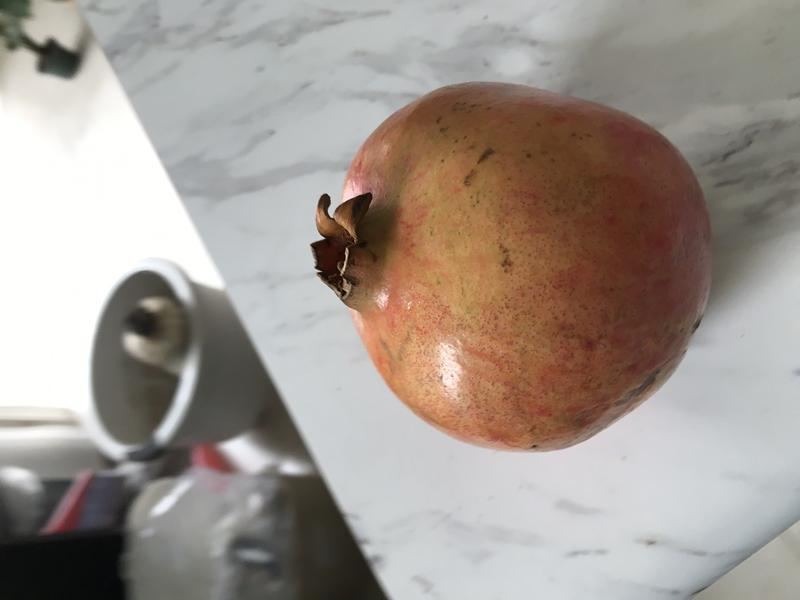pomegranate: (288, 71, 725, 461)
